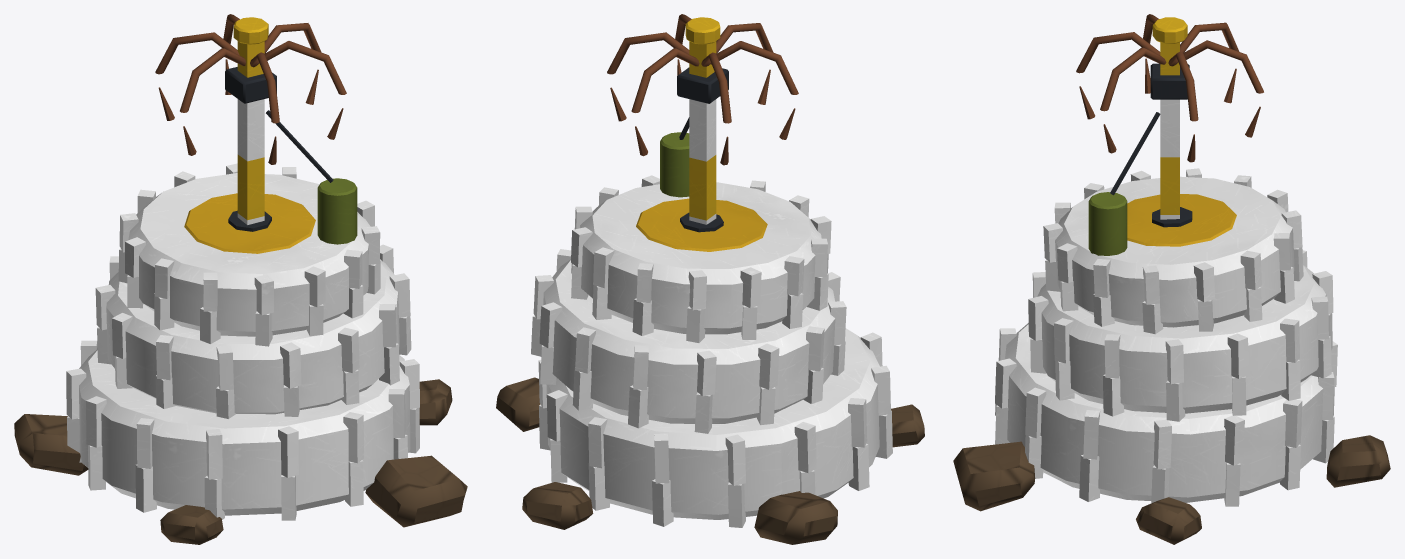
The model's file is thresher_tyre_cairn.glb.
3 views of the same model, side by side, from view 1: azimuth 30°, elevation 25°; view 2: azimuth 150°, elevation 25°; view 3: azimuth 270°, elevation 25° (orthographic).
Visible parts, largest first — view 1: thresher_tyre_cairn; view 2: thresher_tyre_cairn; view 3: thresher_tyre_cairn.
Boxes of the visible parts, <box> form: thresher_tyre_cairn: <box>14,14,467,544</box>; thresher_tyre_cairn: <box>496,14,924,544</box>; thresher_tyre_cairn: <box>953,14,1390,544</box>.
Size of the model in its own units: 2.24 by 2.49 by 2.25.
Materials: 12 (12 with a texture image).
